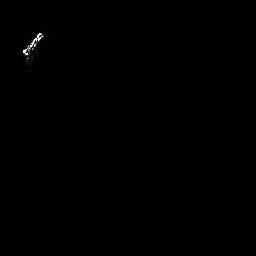ship: (20, 30, 47, 64)
